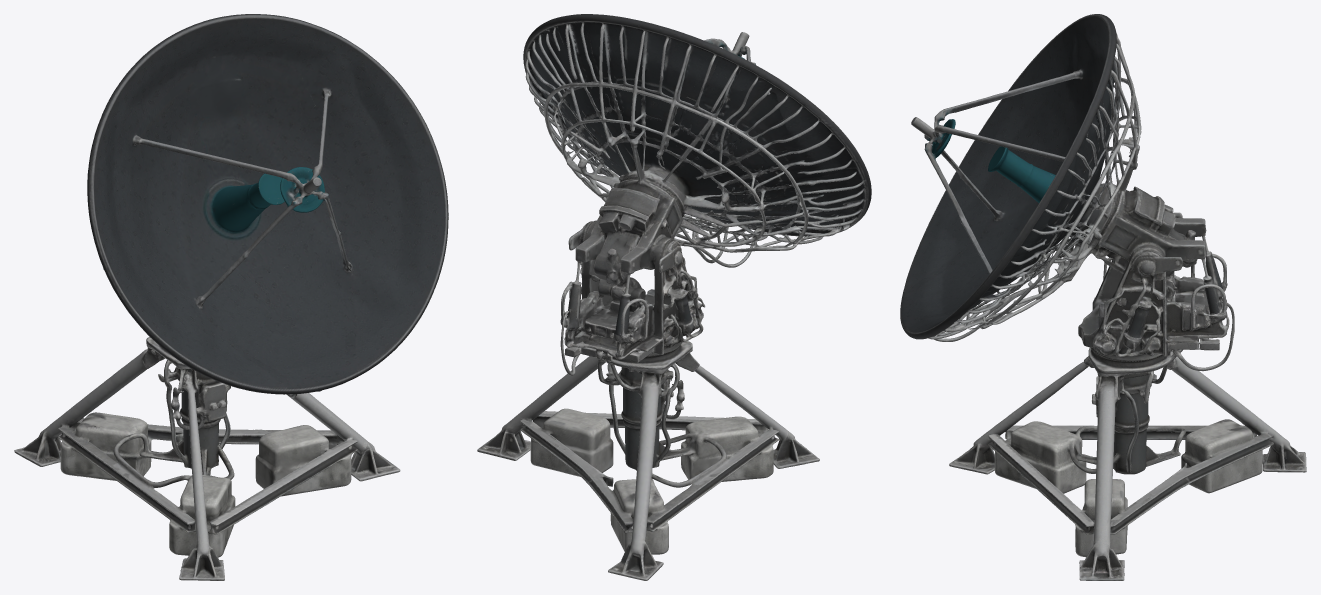
File: parabolic_satellite_dish_silent_signal.glb
3 views of the same model, side by side, from view 1: azimuth 30°, elevation 25°; view 2: azimuth 150°, elevation 25°; view 3: azimuth 270°, elevation 25° (orthographic). The views are drawn at different scales.
Bounding box in the file's own units: 1.42 × 1.9 × 1.5.
1 material, 1 textured.
